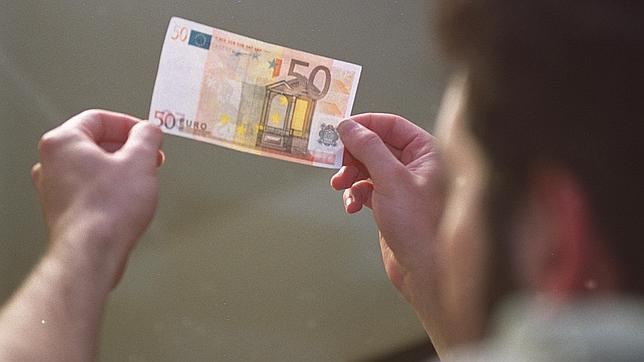billete: (147, 15, 364, 171)
